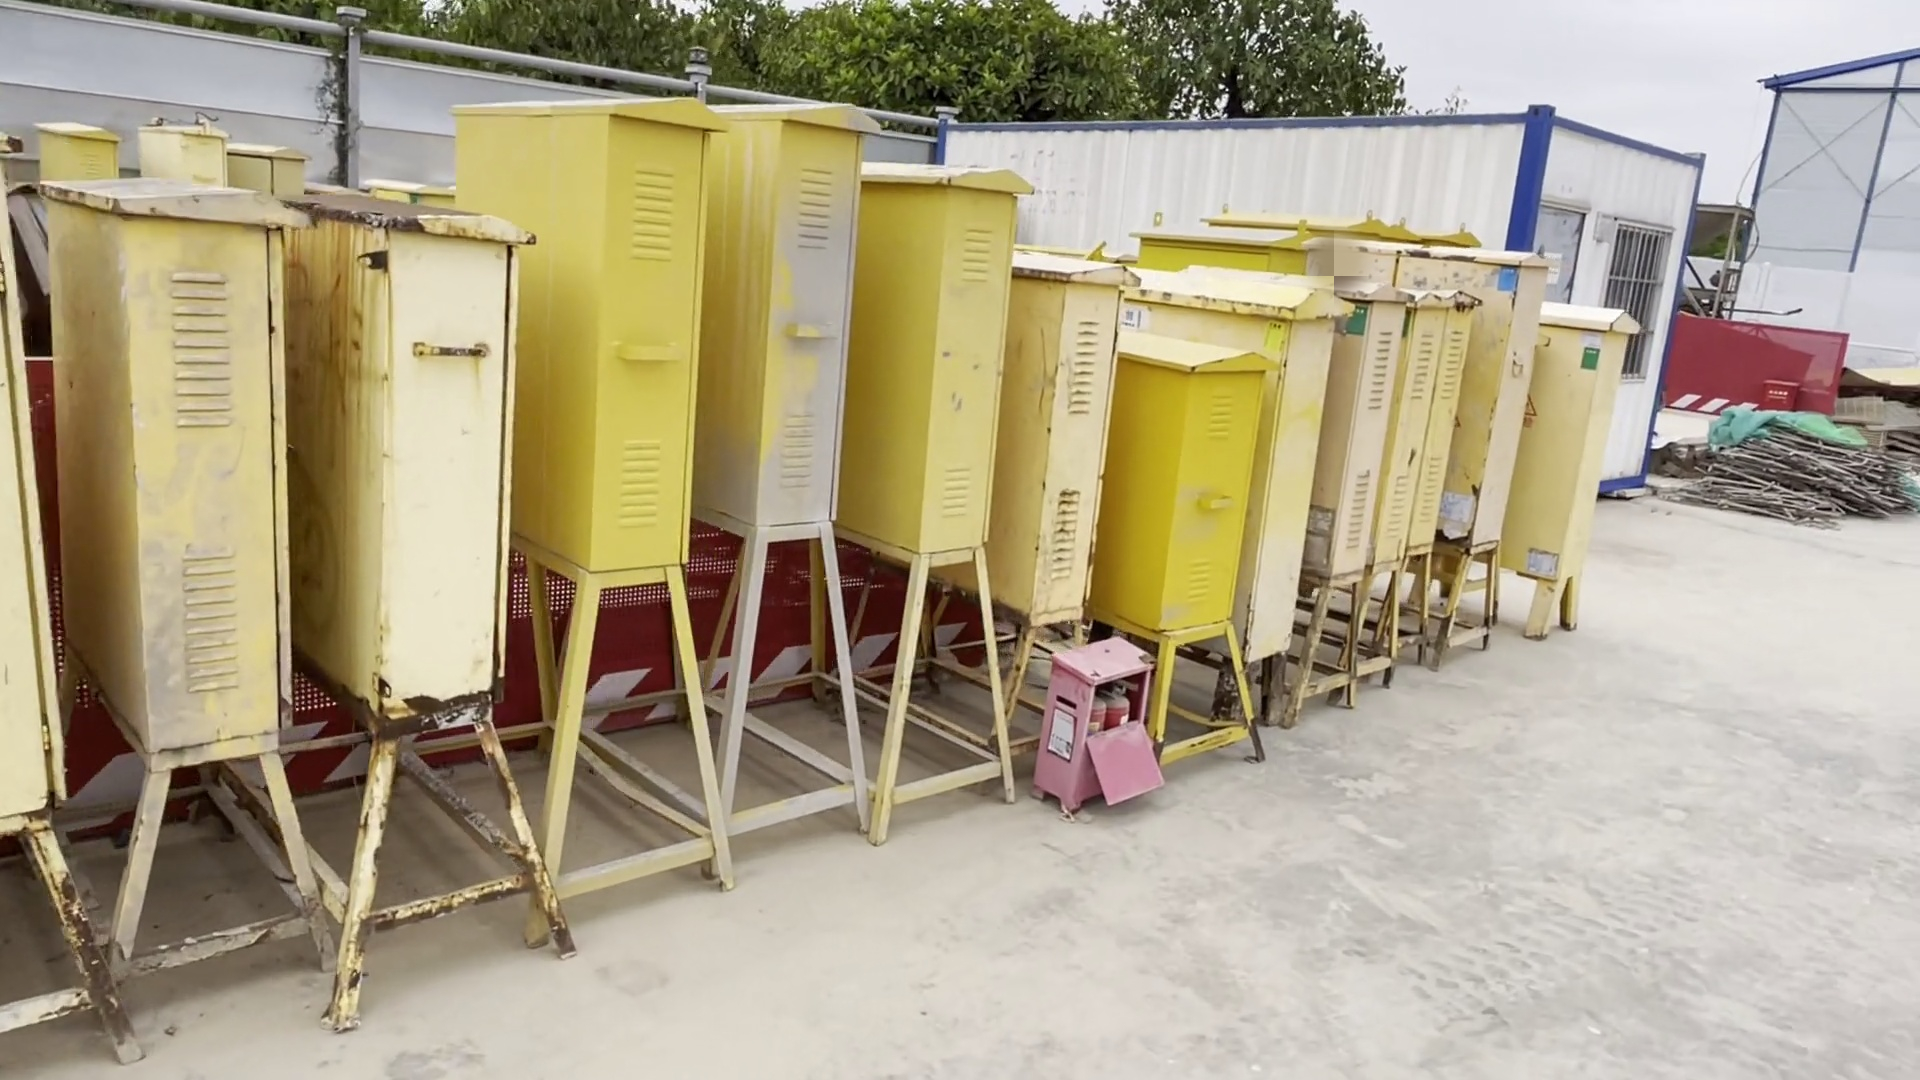ebox: (439, 86, 735, 898), (102, 167, 324, 1027), (331, 193, 553, 1035), (698, 98, 881, 861), (845, 157, 1023, 812), (1149, 270, 1308, 731), (1112, 328, 1269, 775), (1341, 237, 1501, 622), (997, 237, 1116, 748), (1509, 307, 1662, 638), (1307, 274, 1415, 735), (1352, 291, 1449, 692), (1404, 301, 1487, 669), (141, 109, 229, 194), (30, 105, 116, 178), (229, 137, 314, 194)
